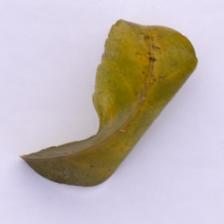black spot: (34, 116, 84, 205)
